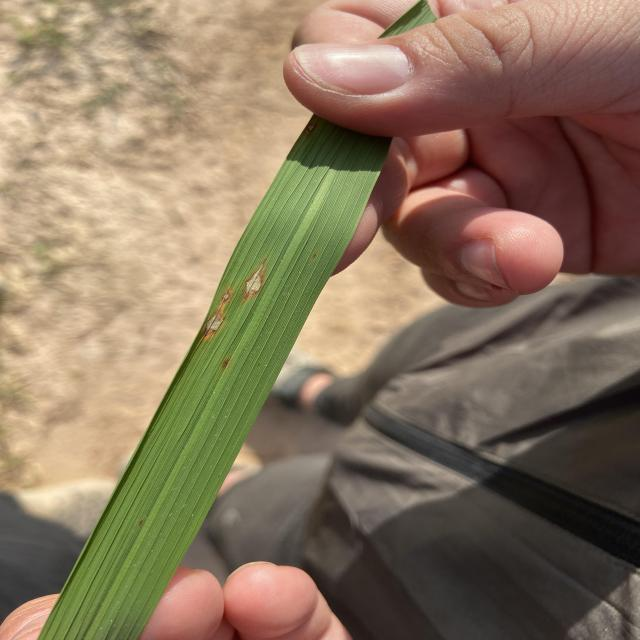Dao on: (204, 289, 233, 337), (245, 263, 262, 299), (306, 123, 317, 131)
